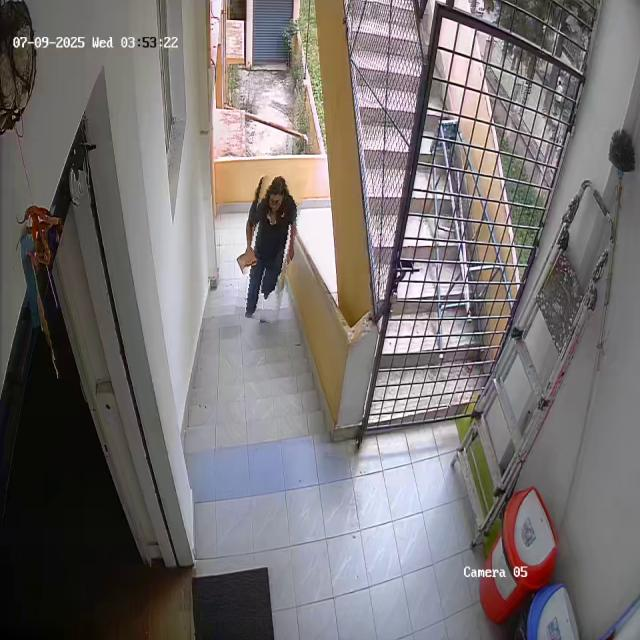person: (242, 173, 300, 322)
